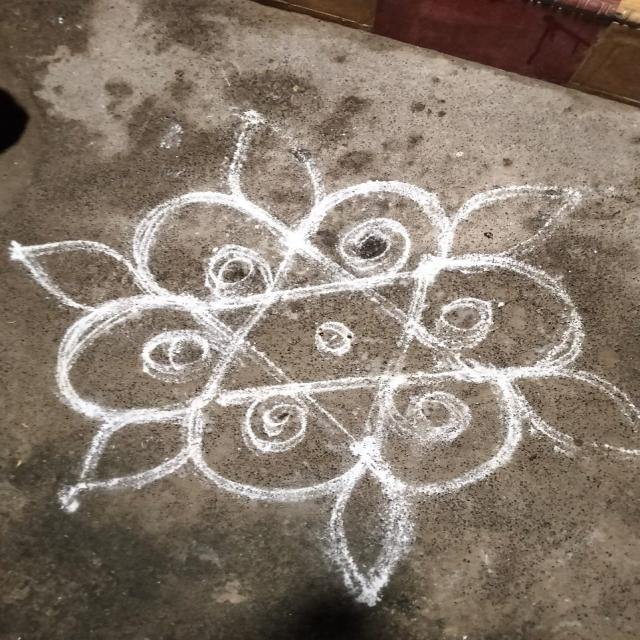rangoli: (3, 100, 640, 605)
